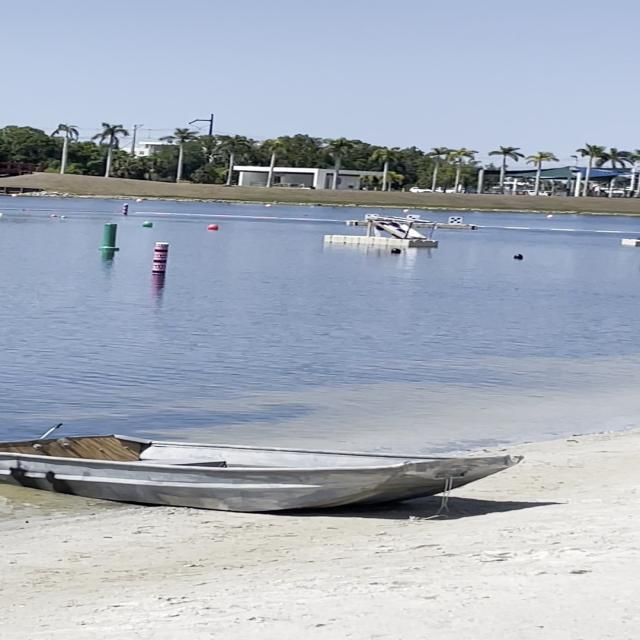buoy: (512, 252, 526, 264), (388, 247, 404, 256), (140, 220, 154, 228), (206, 223, 220, 231)
